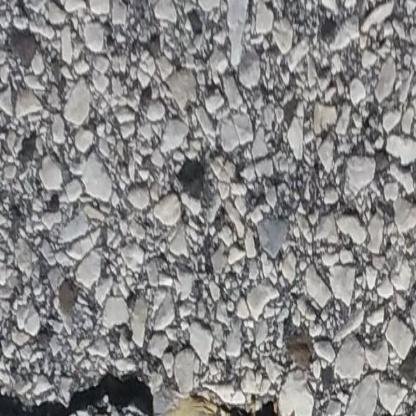Cracks: (0, 384, 162, 416), (214, 402, 365, 416)
